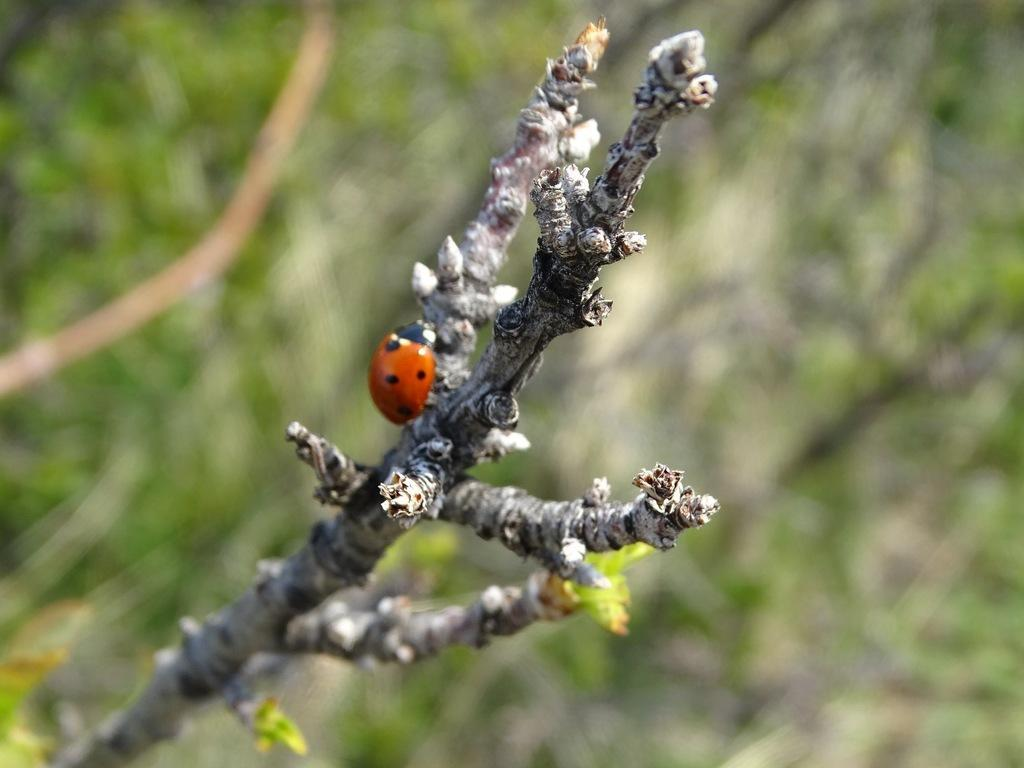ladybug: (365, 313, 451, 431)
